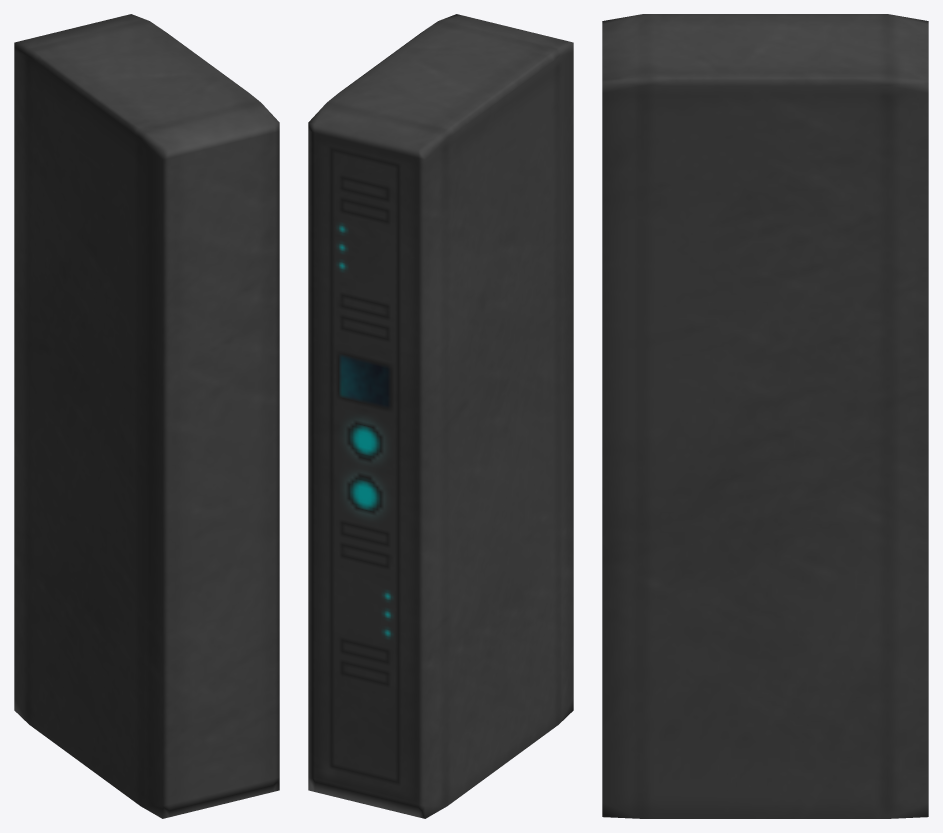
Rendered from mesh_capsule_computer.fbx.
The picture shows the model from 3 angles, left to right: view 1: azimuth 30°, elevation 25°; view 2: azimuth 150°, elevation 25°; view 3: azimuth 270°, elevation 25°; orthographic projection. The views are drawn at different scales.
Visible parts, largest first — view 1: mesh_capsule_computer; view 2: mesh_capsule_computer; view 3: mesh_capsule_computer.
Part boxes in pixels (left/top/right/bottom): mesh_capsule_computer: left=14, top=14, right=279, bottom=818; mesh_capsule_computer: left=308, top=14, right=573, bottom=818; mesh_capsule_computer: left=602, top=14, right=928, bottom=818.
Size of the model in its own units: 0.4827 by 2.5 by 1.
